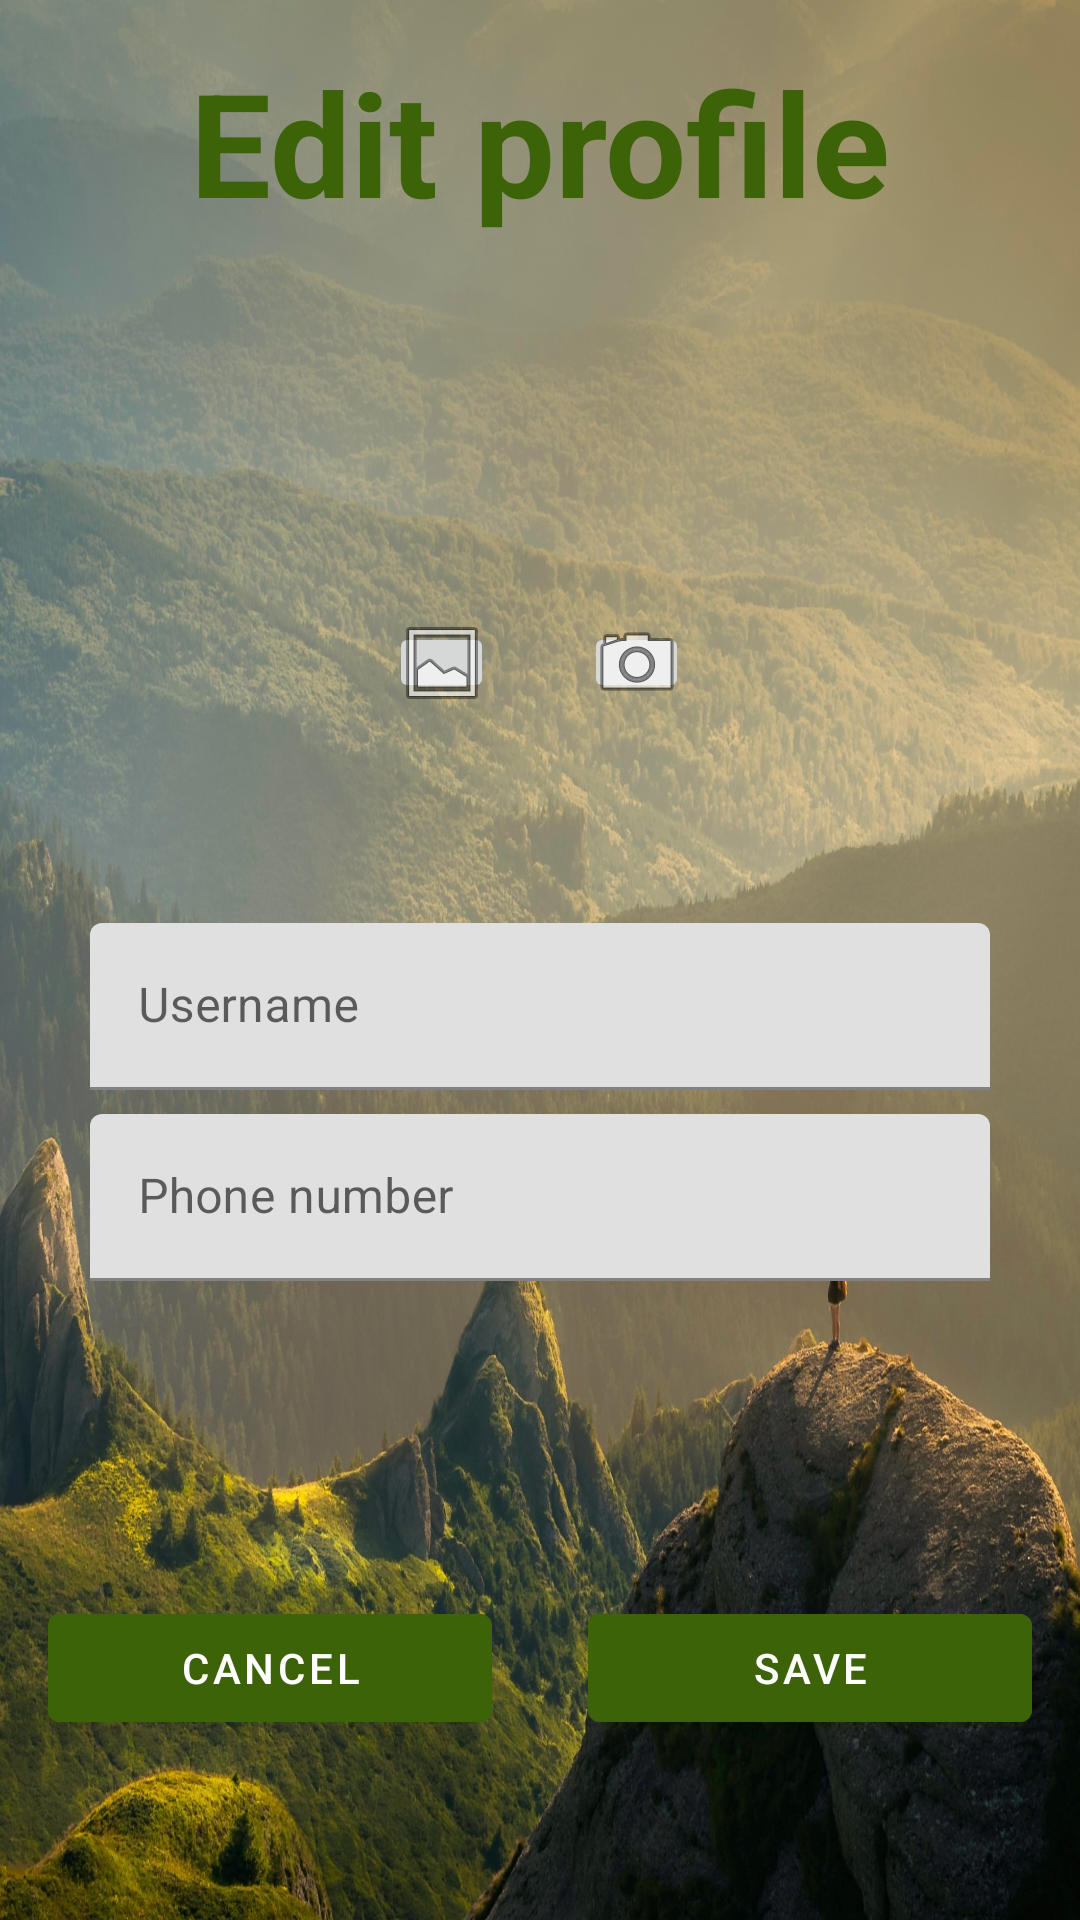

Locate icon controls on the screen. Image size 1080*1920, boxes as [x1, y1, x2, y2].
camera: [585, 625, 689, 703]
gallery: [389, 622, 494, 703]
